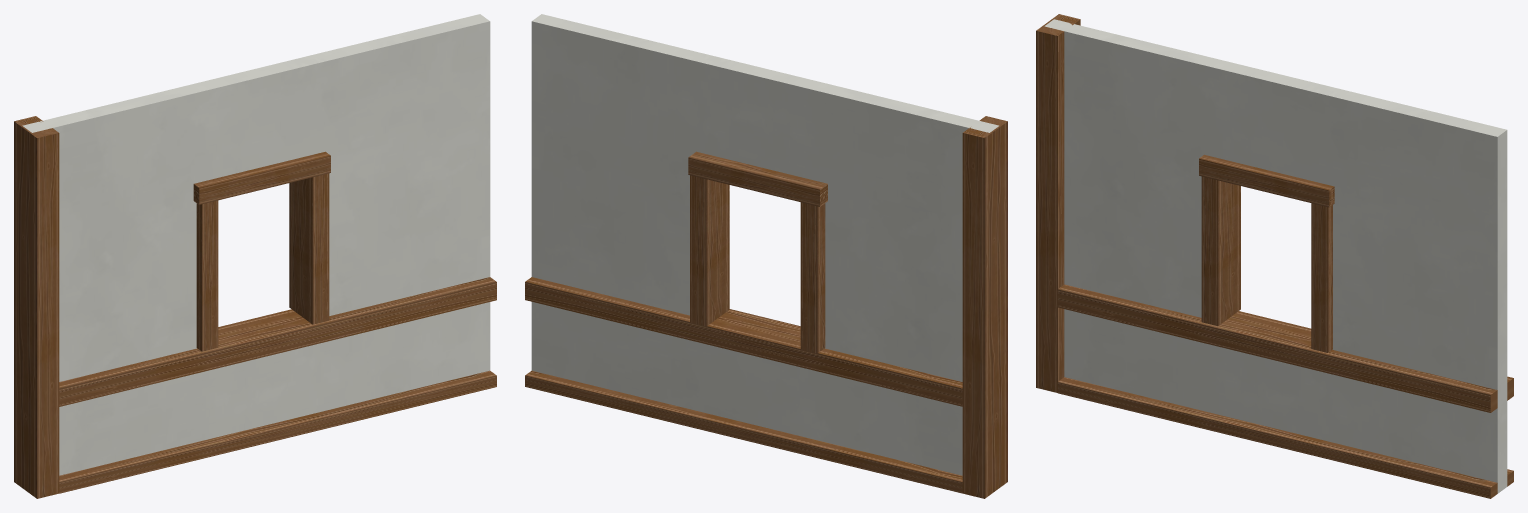
File: SM_Window_Wall_01_wstone.glb
3 renders of one model, left to right at view 1: azimuth 30°, elevation 25°; view 2: azimuth 150°, elevation 25°; view 3: azimuth 330°, elevation 25°, orthographic.
Visible parts, largest first — view 1: SM_Window_Wall_01; view 2: SM_Window_Wall_01; view 3: SM_Window_Wall_01.
Part boxes in pixels (x1,y1,x2,y2): SM_Window_Wall_01: (14, 14, 496, 498); SM_Window_Wall_01: (525, 14, 1007, 498); SM_Window_Wall_01: (1036, 14, 1513, 498).
Size of the model in its own units: 4 by 3 by 0.3736.
2 materials, 2 textured.
